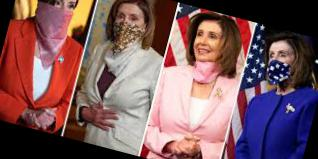mask_weared_incorrect: (188, 27, 226, 74)
with_mask: (112, 8, 147, 39), (265, 47, 294, 76), (49, 1, 78, 23)
